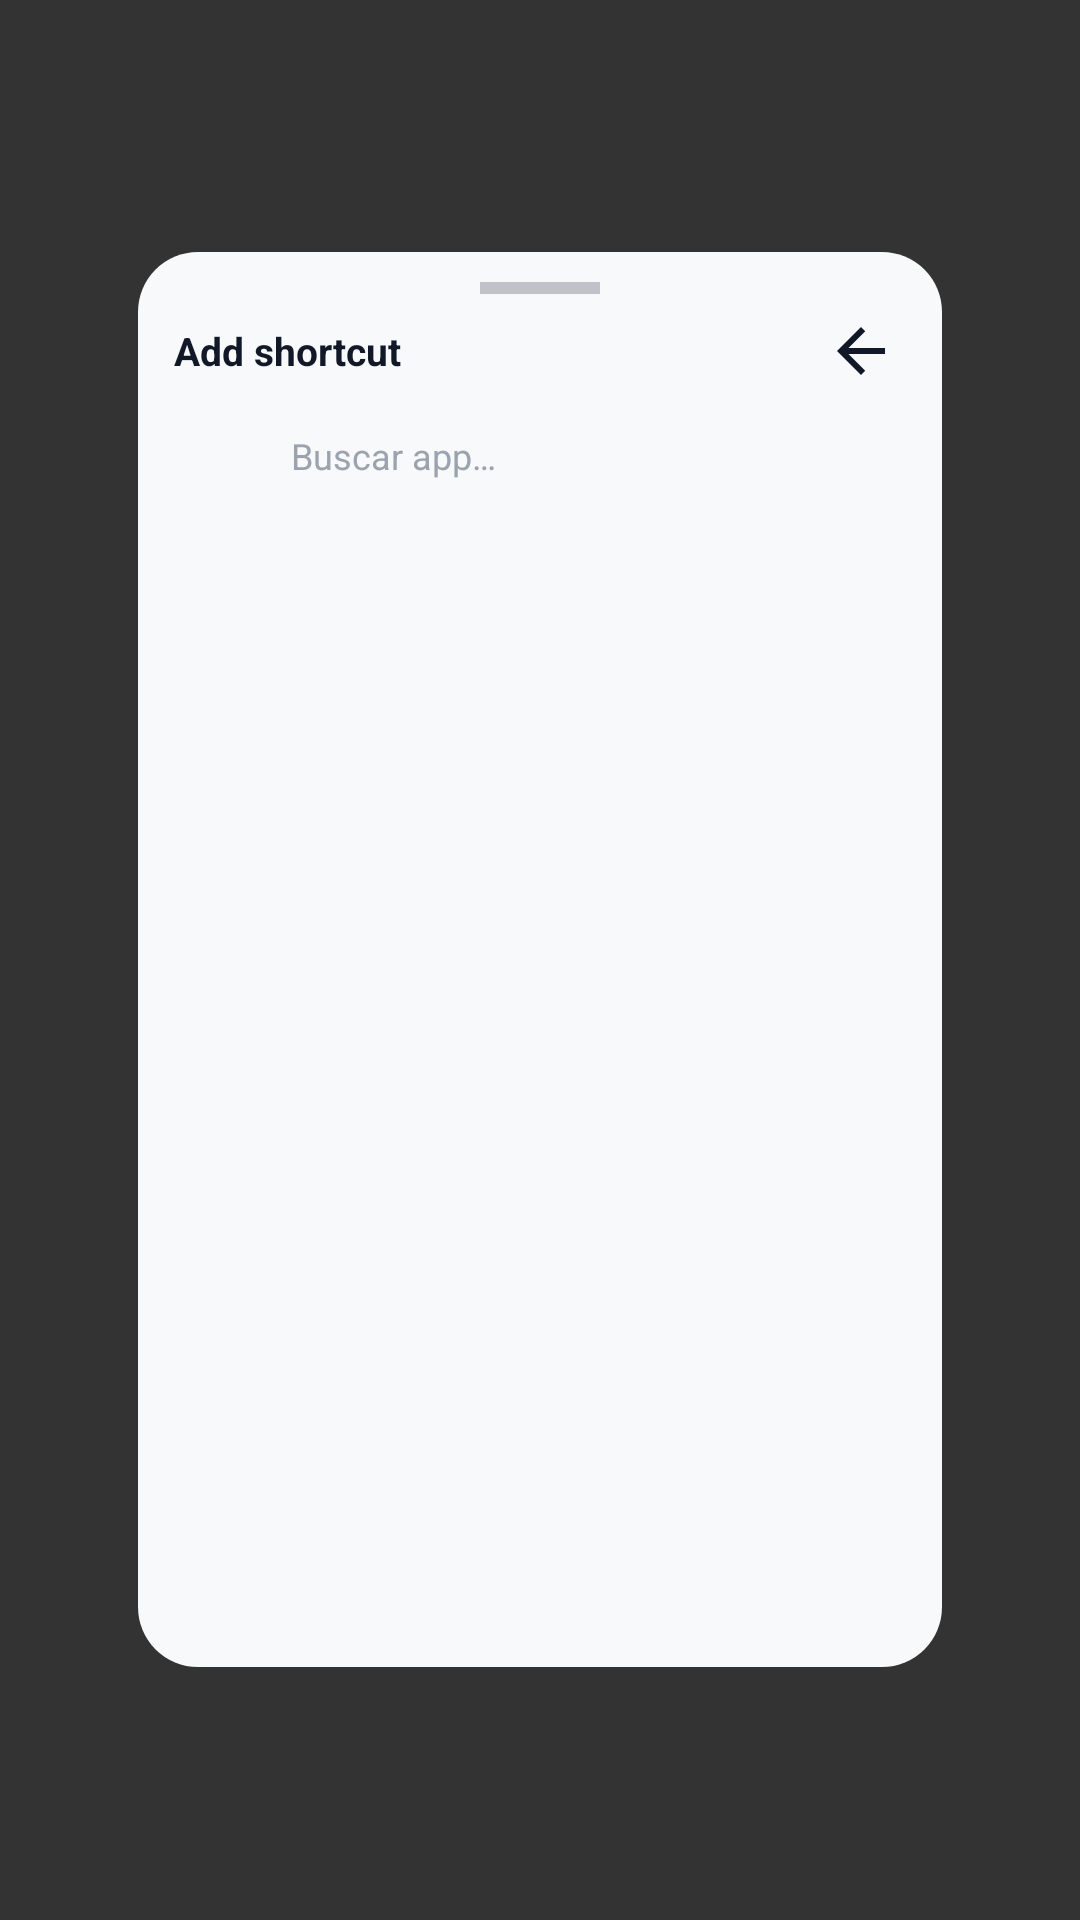

Icons on this 1080x1920 Android screen, each with the point to tap as [x,y]:
Cerrar: [861,351]
